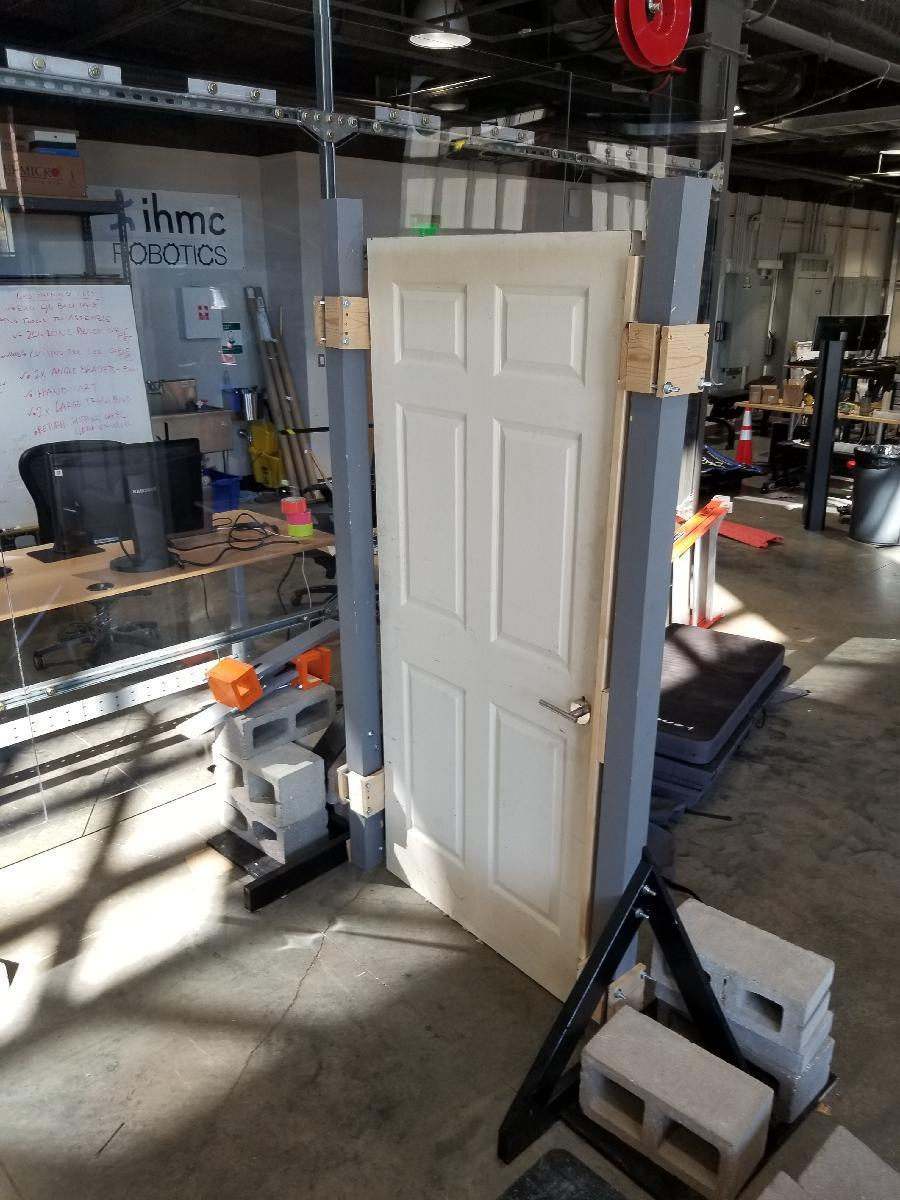door: (374, 243, 614, 981)
handle: (536, 690, 598, 734)
